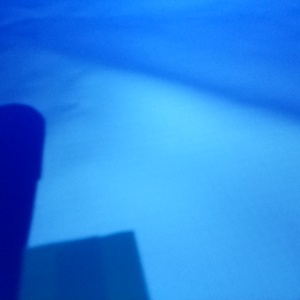top_right: (1, 231, 150, 300)
